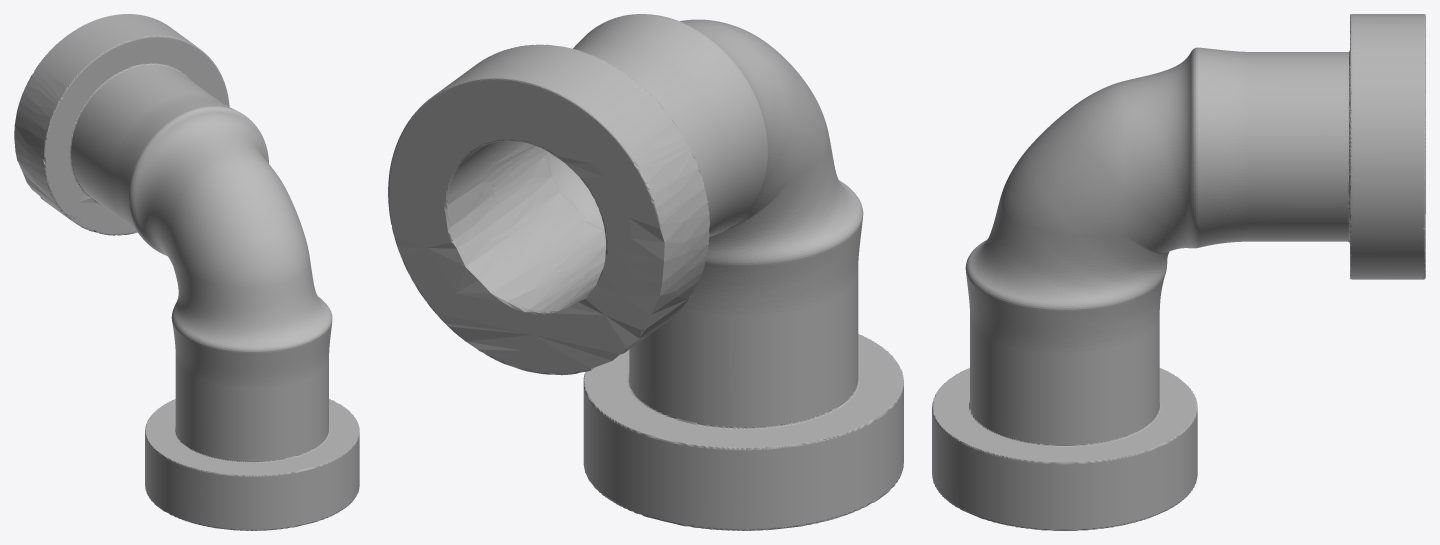
File: Pipe7.fbx
3 views of the same model, side by side, from view 1: azimuth 30°, elevation 25°; view 2: azimuth 150°, elevation 25°; view 3: azimuth 270°, elevation 25° (orthographic). The views are drawn at different scales.
Visible parts, largest first — view 1: Pipe7; view 2: Pipe7; view 3: Pipe7.
Part boxes in pixels (<box>): Pipe7: <box>14,14,359,530</box>; Pipe7: <box>388,14,903,530</box>; Pipe7: <box>932,14,1425,530</box>.
Bounding box in the file's own units: 199 × 371 × 370.
